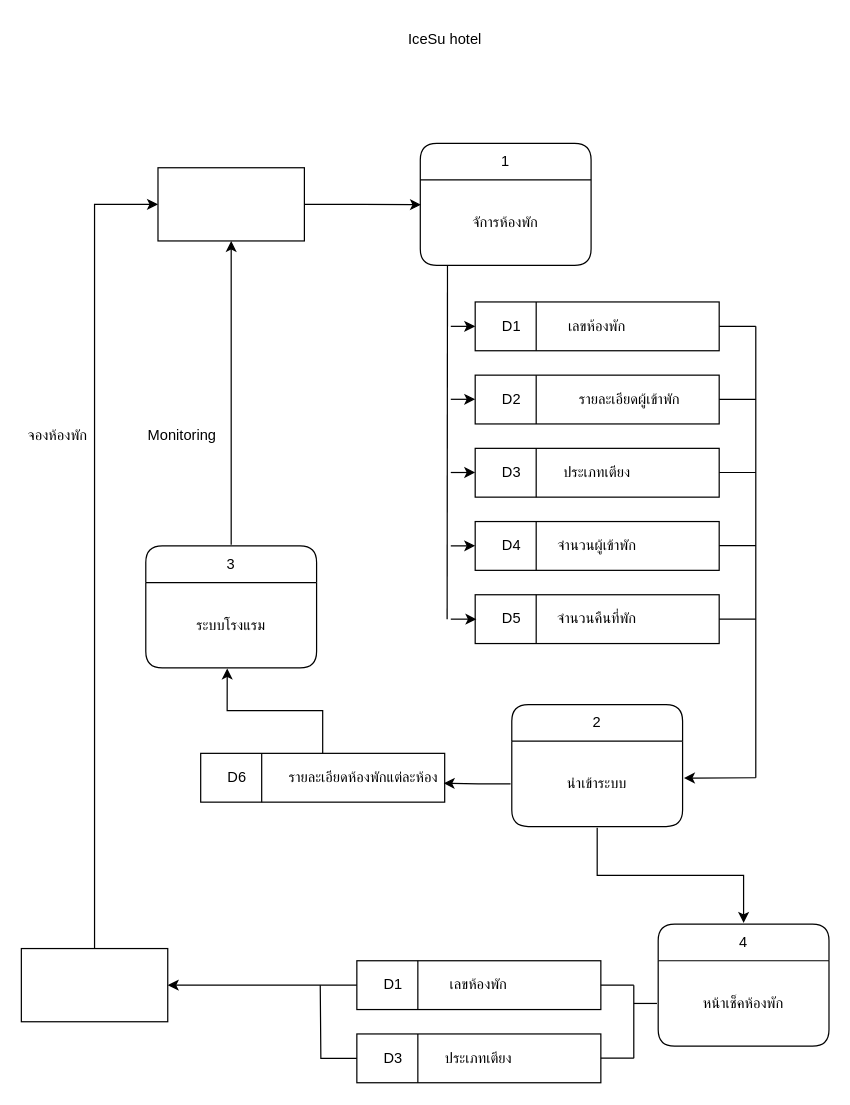
Image size: 850x1105. Some labels were removed from this diagram. Each missing label, with the centre of its shape:
"พนักงาน" goes at (x=230, y=204).
"ลูกค้า" goes at (x=94, y=984).
